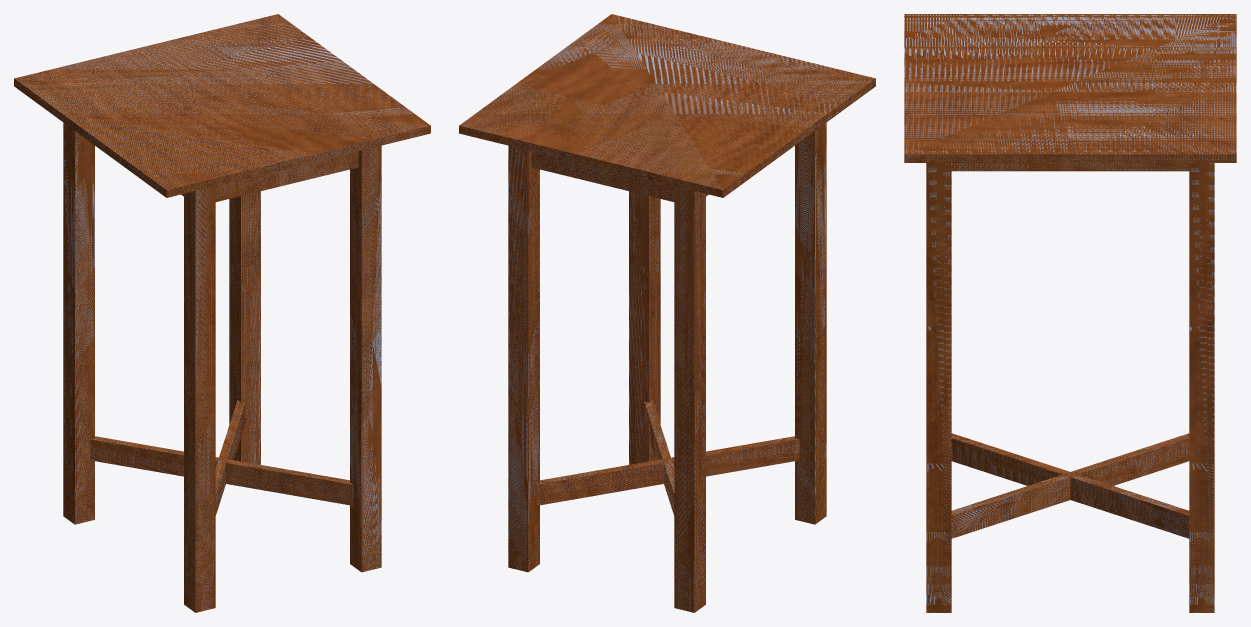
File: BarTable.dae
3 renders of one model, left to right at view 1: azimuth 30°, elevation 25°; view 2: azimuth 150°, elevation 25°; view 3: azimuth 270°, elevation 25°, orthographic. The views are drawn at different scales.
Parts seen in each view (by area): view 1: SketchUp (×8); view 2: SketchUp (×8); view 3: SketchUp (×6).
Part boxes in pixels (x1,y1,x2,y2): SketchUp (×8): (14,14,430,612); SketchUp (×8): (459,14,875,612); SketchUp (×6): (904,14,1236,612).
Bounding box in the file's own units: 26.25 × 26.25 × 41.75.
